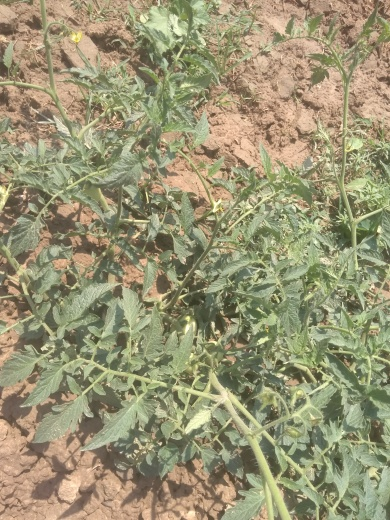tomato plant: (19, 191, 390, 443), (58, 10, 261, 450), (230, 193, 390, 487)
